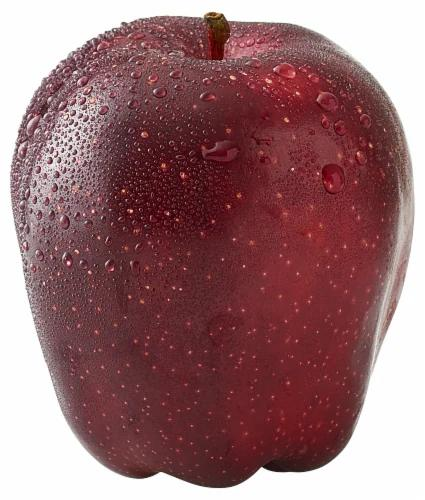fruit: (10, 16, 411, 480)
